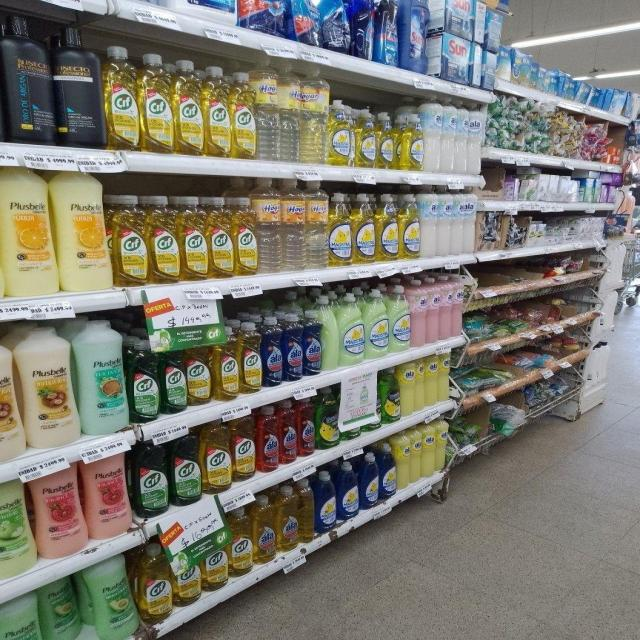ala_conc_amarillo: (252, 493, 276, 564), (276, 482, 298, 552)
ala_conc_azul: (262, 315, 282, 387), (283, 311, 303, 382), (304, 310, 322, 377)
ala_conc_rojo: (256, 404, 278, 473), (279, 399, 297, 465), (298, 396, 315, 457)
ala_crem_amarillo: (399, 361, 415, 415), (425, 354, 439, 406), (422, 422, 435, 478), (411, 428, 422, 484), (435, 419, 446, 474), (440, 352, 450, 403), (416, 358, 425, 410)
ala_crem_blanco: (420, 186, 438, 258), (461, 186, 476, 254), (439, 186, 451, 257), (452, 187, 464, 256)
ala_crem_rosado: (411, 278, 428, 346), (427, 277, 439, 344)
cif_conc_bot_amarilla: (104, 45, 138, 151), (139, 53, 173, 153), (112, 194, 146, 287), (148, 194, 179, 284), (174, 59, 202, 155), (138, 543, 172, 622), (203, 64, 230, 158), (180, 195, 207, 281), (231, 70, 256, 159), (202, 420, 232, 493), (208, 195, 233, 278), (213, 330, 238, 401), (234, 196, 256, 276), (229, 505, 252, 577), (186, 344, 212, 407), (232, 411, 255, 482), (240, 320, 261, 394), (203, 539, 228, 590)
cif_conc_botella_verde: (134, 439, 168, 518), (129, 337, 160, 423), (170, 431, 201, 506), (161, 343, 186, 414)
magistral_con_amarillo: (326, 99, 353, 166), (328, 192, 352, 266), (352, 192, 375, 264), (400, 108, 424, 171), (377, 192, 398, 262), (399, 192, 420, 260), (354, 106, 376, 168), (377, 110, 395, 169)
magistral_con_azul: (315, 470, 336, 534), (337, 461, 359, 520), (360, 452, 379, 508), (380, 445, 396, 500)
